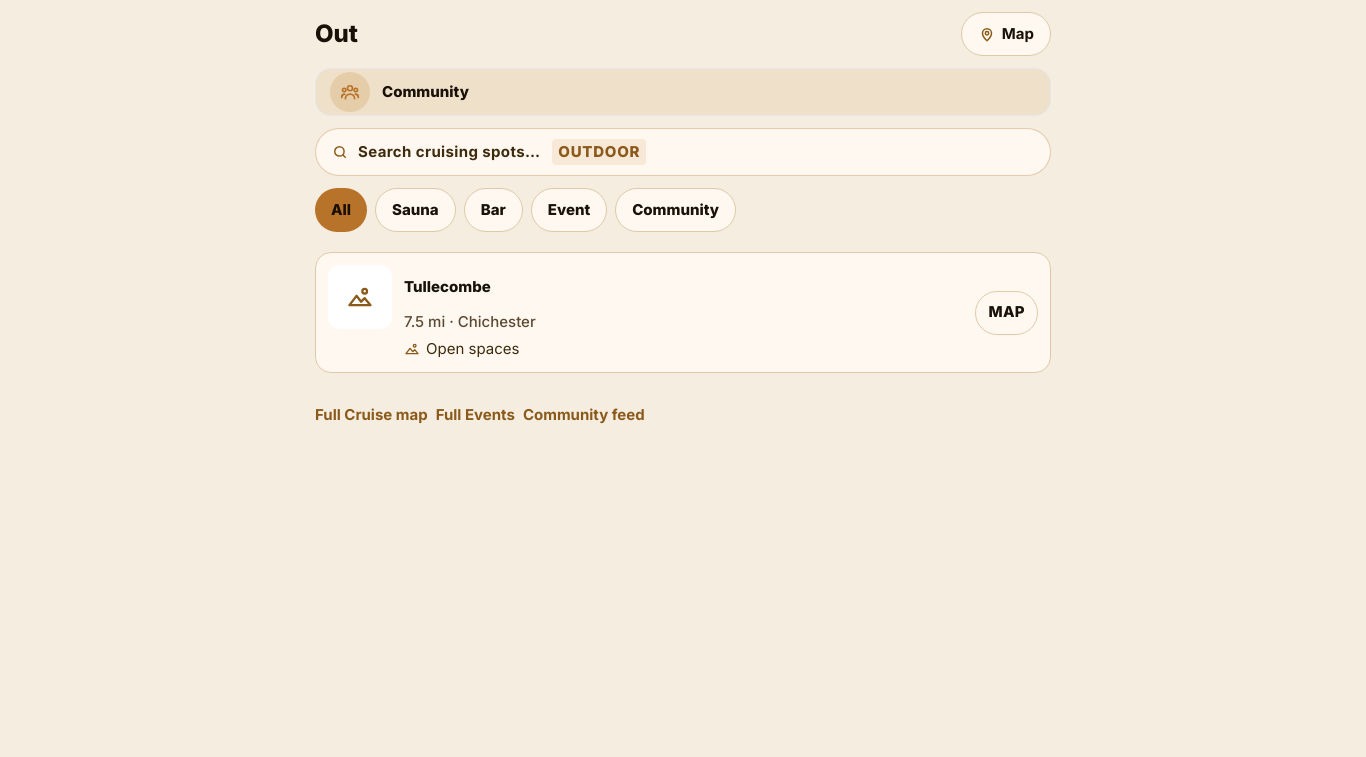
it: Out list refreshes after a check-in from the spot sheet › check-out re-reads the list too
The image size is (1366, 757).
What coordinates should you click on to do the following:
click the button "Tullecombe"
I would click on:
 (447, 286)
Its box is x1=404 y1=265 x2=963 y2=309.
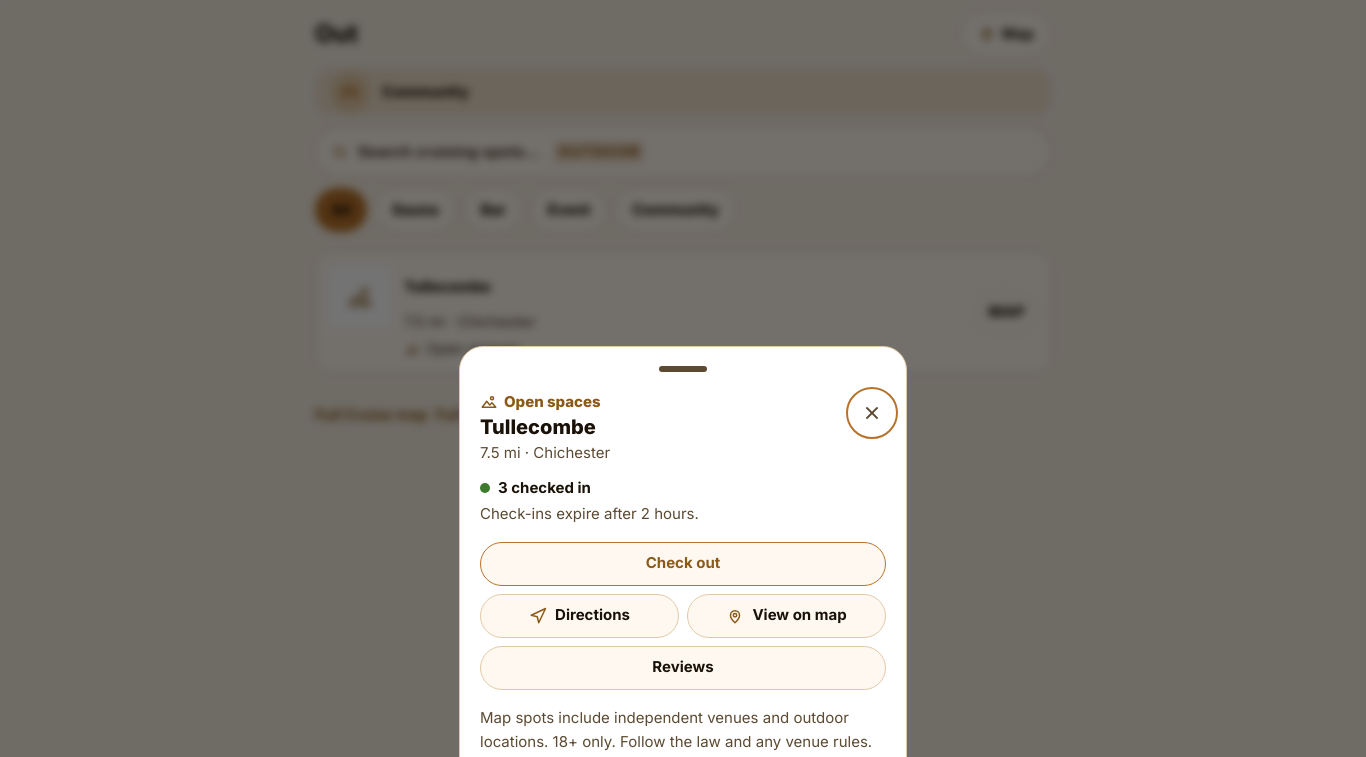
What coordinates should you click on to do the following:
click the button with test id "hotspot-sheet-checkout"
I would click on:
 (683, 564)
Its box is x1=480 y1=542 x2=886 y2=586.
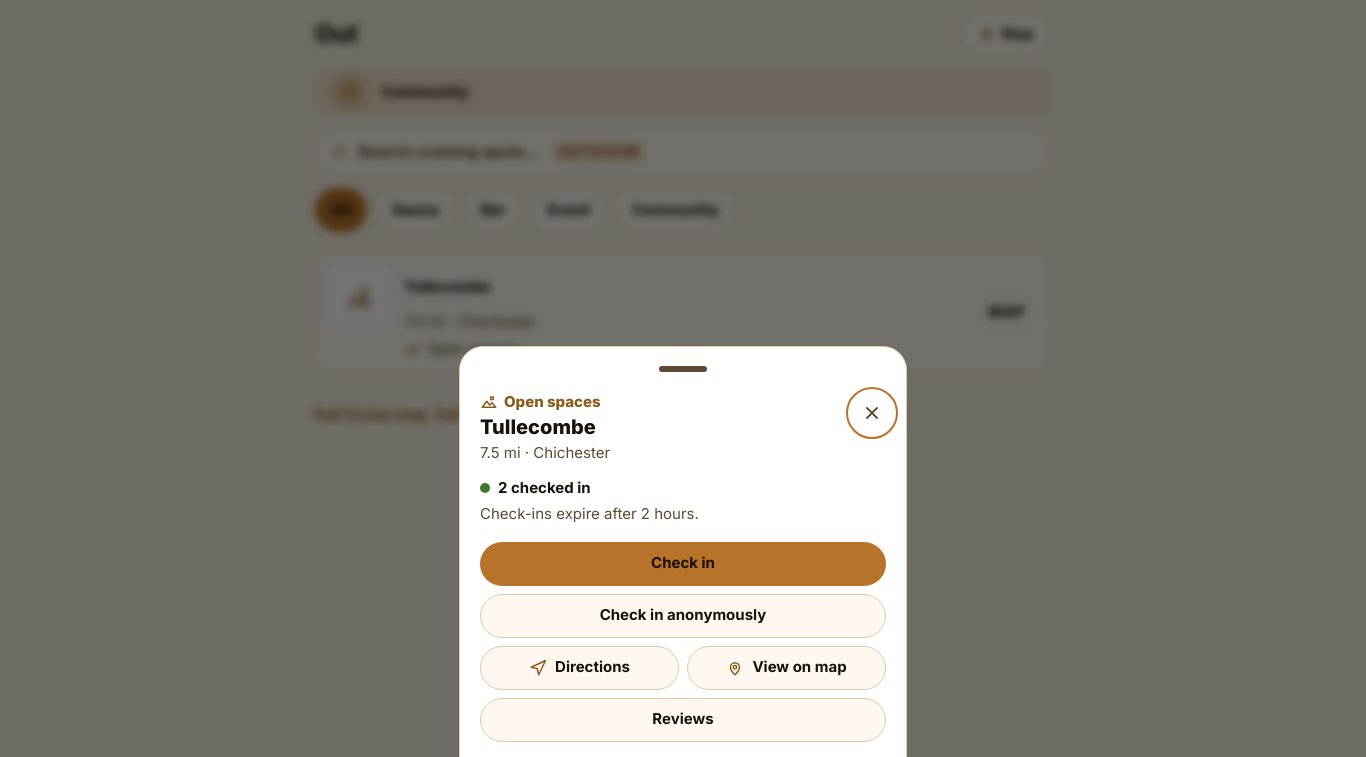
Expected: the element with test id "hotspot-sheet-activity" reads "2 checked in", x1=498 y1=478 x2=591 y2=497
Expected: the button with test id "hotspot-sheet-checkin" is shown, x1=480 y1=542 x2=886 y2=586
